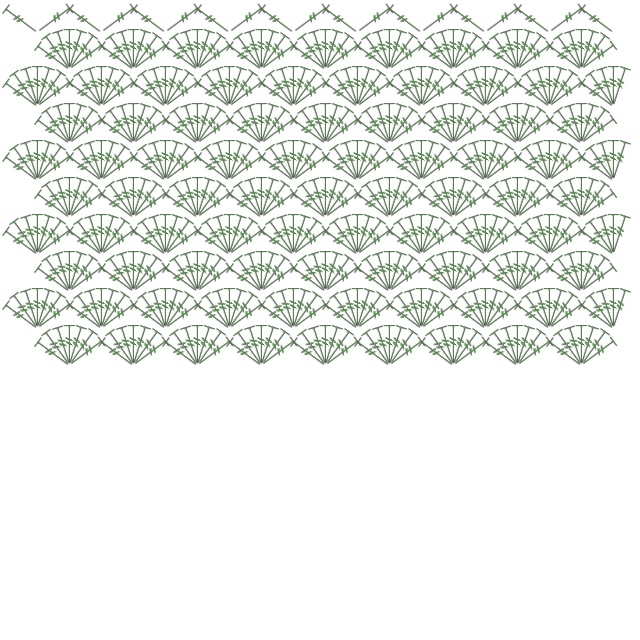fan: (0, 1, 42, 38), (34, 1, 76, 38), (64, 1, 106, 38), (98, 1, 140, 38), (128, 1, 170, 38), (162, 1, 204, 38), (192, 1, 234, 38), (226, 1, 268, 38), (256, 1, 298, 38), (290, 1, 332, 38), (320, 1, 362, 38), (354, 1, 396, 38), (384, 1, 426, 38), (418, 1, 460, 38), (448, 1, 490, 38), (482, 1, 524, 38), (512, 1, 554, 38), (546, 1, 588, 38), (576, 1, 618, 38), (32, 38, 74, 75), (39, 31, 76, 73), (64, 31, 101, 73), (66, 38, 108, 75), (96, 38, 138, 75), (103, 31, 140, 73), (128, 31, 165, 73), (130, 38, 172, 75), (160, 38, 202, 75), (167, 31, 204, 73), (192, 31, 229, 73), (194, 38, 236, 75), (224, 38, 266, 75), (231, 31, 268, 73), (256, 31, 293, 73), (258, 38, 300, 75), (288, 38, 330, 75), (295, 31, 332, 73), (320, 31, 357, 73), (322, 38, 364, 75), (352, 38, 394, 75), (359, 31, 396, 73), (384, 31, 421, 73), (386, 38, 428, 75), (416, 38, 458, 75), (423, 31, 460, 73), (448, 31, 485, 73), (450, 38, 492, 75), (480, 38, 522, 75), (487, 31, 524, 73), (512, 31, 549, 73), (514, 38, 556, 75), (544, 38, 586, 75), (551, 31, 588, 73), (576, 31, 613, 73), (578, 38, 620, 75), (0, 75, 42, 112), (7, 68, 44, 110), (32, 68, 69, 110), (34, 75, 76, 112), (64, 75, 106, 112), (71, 68, 108, 110), (96, 68, 133, 110), (98, 75, 140, 112), (128, 75, 170, 112), (135, 68, 172, 110), (160, 68, 197, 110), (162, 75, 204, 112), (192, 75, 234, 112), (199, 68, 236, 110), (224, 68, 261, 110), (226, 75, 268, 112), (256, 75, 298, 112), (263, 68, 300, 110), (288, 68, 325, 110), (290, 75, 332, 112), (320, 75, 362, 112), (327, 68, 364, 110), (352, 68, 389, 110), (354, 75, 396, 112), (384, 75, 426, 112), (391, 68, 428, 110), (416, 68, 453, 110), (418, 75, 460, 112), (448, 75, 490, 112), (455, 68, 492, 110), (480, 68, 517, 110), (482, 75, 524, 112), (512, 75, 554, 112), (519, 68, 556, 110), (544, 68, 581, 110), (546, 75, 588, 112), (576, 75, 618, 112), (583, 68, 620, 110), (32, 112, 74, 149), (39, 105, 76, 147), (64, 105, 101, 147), (66, 112, 108, 149), (96, 112, 138, 149), (103, 105, 140, 147), (128, 105, 165, 147), (130, 112, 172, 149), (160, 112, 202, 149), (167, 105, 204, 147), (192, 105, 229, 147), (194, 112, 236, 149), (224, 112, 266, 149), (231, 105, 268, 147), (256, 105, 293, 147), (258, 112, 300, 149), (288, 112, 330, 149), (295, 105, 332, 147), (320, 105, 357, 147), (322, 112, 364, 149), (352, 112, 394, 149), (359, 105, 396, 147), (384, 105, 421, 147), (386, 112, 428, 149), (416, 112, 458, 149), (423, 105, 460, 147), (448, 105, 485, 147), (450, 112, 492, 149), (480, 112, 522, 149), (487, 105, 524, 147), (512, 105, 549, 147), (514, 112, 556, 149), (544, 112, 586, 149), (551, 105, 588, 147), (576, 105, 613, 147), (578, 112, 620, 149), (0, 149, 42, 186), (7, 142, 44, 184), (32, 142, 69, 184), (34, 149, 76, 186), (64, 149, 106, 186), (71, 142, 108, 184), (96, 142, 133, 184), (98, 149, 140, 186), (128, 149, 170, 186), (135, 142, 172, 184), (160, 142, 197, 184), (162, 149, 204, 186), (192, 149, 234, 186), (199, 142, 236, 184), (224, 142, 261, 184), (226, 149, 268, 186), (256, 149, 298, 186), (263, 142, 300, 184), (288, 142, 325, 184), (290, 149, 332, 186), (320, 149, 362, 186), (327, 142, 364, 184), (352, 142, 389, 184), (354, 149, 396, 186), (384, 149, 426, 186), (391, 142, 428, 184), (416, 142, 453, 184), (418, 149, 460, 186), (448, 149, 490, 186), (455, 142, 492, 184), (480, 142, 517, 184), (482, 149, 524, 186), (512, 149, 554, 186), (519, 142, 556, 184), (544, 142, 581, 184), (546, 149, 588, 186), (576, 149, 618, 186), (583, 142, 620, 184), (32, 186, 74, 223), (39, 179, 76, 221), (64, 179, 101, 221), (66, 186, 108, 223), (96, 186, 138, 223), (103, 179, 140, 221), (128, 179, 165, 221), (130, 186, 172, 223), (160, 186, 202, 223), (167, 179, 204, 221), (192, 179, 229, 221), (194, 186, 236, 223), (224, 186, 266, 223), (231, 179, 268, 221), (256, 179, 293, 221), (258, 186, 300, 223), (288, 186, 330, 223), (295, 179, 332, 221), (320, 179, 357, 221), (322, 186, 364, 223), (352, 186, 394, 223), (359, 179, 396, 221), (384, 179, 421, 221), (386, 186, 428, 223), (416, 186, 458, 223), (423, 179, 460, 221), (448, 179, 485, 221), (450, 186, 492, 223), (480, 186, 522, 223), (487, 179, 524, 221), (512, 179, 549, 221), (514, 186, 556, 223), (544, 186, 586, 223), (551, 179, 588, 221), (576, 179, 613, 221), (578, 186, 620, 223), (0, 223, 42, 260), (7, 216, 44, 258), (32, 216, 69, 258), (34, 223, 76, 260), (64, 223, 106, 260), (71, 216, 108, 258), (96, 216, 133, 258), (98, 223, 140, 260), (128, 223, 170, 260), (135, 216, 172, 258), (160, 216, 197, 258), (162, 223, 204, 260), (192, 223, 234, 260), (199, 216, 236, 258), (224, 216, 261, 258), (226, 223, 268, 260), (256, 223, 298, 260), (263, 216, 300, 258), (288, 216, 325, 258), (290, 223, 332, 260), (320, 223, 362, 260), (327, 216, 364, 258), (352, 216, 389, 258), (354, 223, 396, 260), (384, 223, 426, 260), (391, 216, 428, 258), (416, 216, 453, 258), (418, 223, 460, 260), (448, 223, 490, 260), (455, 216, 492, 258), (480, 216, 517, 258), (482, 223, 524, 260), (512, 223, 554, 260), (519, 216, 556, 258), (544, 216, 581, 258), (546, 223, 588, 260), (576, 223, 618, 260), (583, 216, 620, 258), (32, 260, 74, 297), (39, 253, 76, 295), (64, 253, 101, 295), (66, 260, 108, 297), (96, 260, 138, 297), (103, 253, 140, 295), (128, 253, 165, 295), (130, 260, 172, 297), (160, 260, 202, 297), (167, 253, 204, 295), (192, 253, 229, 295), (194, 260, 236, 297), (224, 260, 266, 297), (231, 253, 268, 295), (256, 253, 293, 295), (258, 260, 300, 297), (288, 260, 330, 297), (295, 253, 332, 295), (320, 253, 357, 295), (322, 260, 364, 297), (352, 260, 394, 297), (359, 253, 396, 295), (384, 253, 421, 295), (386, 260, 428, 297), (416, 260, 458, 297), (423, 253, 460, 295), (448, 253, 485, 295), (450, 260, 492, 297), (480, 260, 522, 297), (487, 253, 524, 295), (512, 253, 549, 295), (514, 260, 556, 297), (544, 260, 586, 297), (551, 253, 588, 295), (576, 253, 613, 295), (578, 260, 620, 297), (0, 297, 42, 334), (7, 290, 44, 332), (32, 290, 69, 332), (34, 297, 76, 334), (64, 297, 106, 334), (71, 290, 108, 332), (96, 290, 133, 332), (98, 297, 140, 334), (128, 297, 170, 334), (135, 290, 172, 332), (160, 290, 197, 332), (162, 297, 204, 334), (192, 297, 234, 334), (199, 290, 236, 332), (224, 290, 261, 332), (226, 297, 268, 334), (256, 297, 298, 334), (263, 290, 300, 332), (288, 290, 325, 332), (290, 297, 332, 334), (320, 297, 362, 334), (327, 290, 364, 332), (352, 290, 389, 332), (354, 297, 396, 334), (384, 297, 426, 334), (391, 290, 428, 332), (416, 290, 453, 332), (418, 297, 460, 334), (448, 297, 490, 334), (455, 290, 492, 332), (480, 290, 517, 332), (482, 297, 524, 334), (512, 297, 554, 334), (519, 290, 556, 332), (544, 290, 581, 332), (546, 297, 588, 334), (576, 297, 618, 334), (583, 290, 620, 332), (32, 334, 74, 371), (39, 327, 76, 369), (64, 327, 101, 369), (66, 334, 108, 371), (96, 334, 138, 371), (103, 327, 140, 369), (128, 327, 165, 369), (130, 334, 172, 371), (160, 334, 202, 371), (167, 327, 204, 369), (192, 327, 229, 369), (194, 334, 236, 371), (224, 334, 266, 371), (231, 327, 268, 369), (256, 327, 293, 369), (258, 334, 300, 371), (288, 334, 330, 371), (295, 327, 332, 369), (320, 327, 357, 369), (322, 334, 364, 371), (352, 334, 394, 371), (359, 327, 396, 369), (384, 327, 421, 369), (386, 334, 428, 371), (416, 334, 458, 371), (423, 327, 460, 369), (448, 327, 485, 369), (450, 334, 492, 371), (480, 334, 522, 371), (487, 327, 524, 369), (512, 327, 549, 369), (514, 334, 556, 371), (544, 334, 586, 371), (551, 327, 588, 369), (576, 327, 613, 369), (578, 334, 620, 371), (50, 27, 77, 71), (63, 27, 90, 71), (114, 27, 141, 71), (127, 27, 154, 71), (178, 27, 205, 71), (191, 27, 218, 71), (242, 27, 269, 71), (255, 27, 282, 71), (306, 27, 333, 71), (319, 27, 346, 71), (370, 27, 397, 71), (383, 27, 410, 71), (434, 27, 461, 71), (447, 27, 474, 71), (498, 27, 525, 71), (511, 27, 538, 71), (562, 27, 589, 71), (575, 27, 602, 71), (18, 64, 45, 108), (31, 64, 58, 108), (82, 64, 109, 108), (95, 64, 122, 108), (146, 64, 173, 108), (159, 64, 186, 108), (210, 64, 237, 108), (223, 64, 250, 108), (274, 64, 301, 108), (287, 64, 314, 108), (338, 64, 365, 108), (351, 64, 378, 108), (402, 64, 429, 108), (415, 64, 442, 108), (466, 64, 493, 108), (479, 64, 506, 108), (530, 64, 557, 108), (543, 64, 570, 108), (594, 64, 621, 108), (607, 64, 634, 108), (50, 101, 77, 145), (63, 101, 90, 145), (114, 101, 141, 145), (127, 101, 154, 145), (178, 101, 205, 145), (191, 101, 218, 145), (242, 101, 269, 145), (255, 101, 282, 145), (306, 101, 333, 145), (319, 101, 346, 145), (370, 101, 397, 145), (383, 101, 410, 145), (434, 101, 461, 145), (447, 101, 474, 145), (498, 101, 525, 145), (511, 101, 538, 145), (562, 101, 589, 145), (575, 101, 602, 145), (18, 138, 45, 182), (31, 138, 58, 182), (82, 138, 109, 182), (95, 138, 122, 182), (146, 138, 173, 182), (159, 138, 186, 182), (210, 138, 237, 182), (223, 138, 250, 182), (274, 138, 301, 182), (287, 138, 314, 182), (338, 138, 365, 182), (351, 138, 378, 182), (402, 138, 429, 182), (415, 138, 442, 182), (466, 138, 493, 182), (479, 138, 506, 182), (530, 138, 557, 182), (543, 138, 570, 182), (594, 138, 621, 182), (607, 138, 634, 182), (50, 175, 77, 219), (63, 175, 90, 219), (114, 175, 141, 219), (127, 175, 154, 219), (178, 175, 205, 219), (191, 175, 218, 219), (242, 175, 269, 219), (255, 175, 282, 219), (306, 175, 333, 219), (319, 175, 346, 219), (370, 175, 397, 219), (383, 175, 410, 219), (434, 175, 461, 219), (447, 175, 474, 219), (498, 175, 525, 219), (511, 175, 538, 219), (562, 175, 589, 219), (575, 175, 602, 219), (18, 212, 45, 256), (31, 212, 58, 256), (82, 212, 109, 256), (95, 212, 122, 256), (146, 212, 173, 256), (159, 212, 186, 256), (210, 212, 237, 256), (223, 212, 250, 256), (274, 212, 301, 256), (287, 212, 314, 256), (338, 212, 365, 256), (351, 212, 378, 256), (402, 212, 429, 256), (415, 212, 442, 256), (466, 212, 493, 256), (479, 212, 506, 256), (530, 212, 557, 256), (543, 212, 570, 256), (594, 212, 621, 256), (607, 212, 634, 256), (50, 249, 77, 293), (63, 249, 90, 293), (114, 249, 141, 293), (127, 249, 154, 293), (178, 249, 205, 293), (191, 249, 218, 293), (242, 249, 269, 293), (255, 249, 282, 293), (306, 249, 333, 293), (319, 249, 346, 293), (370, 249, 397, 293), (383, 249, 410, 293), (434, 249, 461, 293), (447, 249, 474, 293), (498, 249, 525, 293), (511, 249, 538, 293), (562, 249, 589, 293), (575, 249, 602, 293), (18, 286, 45, 330), (31, 286, 58, 330), (82, 286, 109, 330), (95, 286, 122, 330), (146, 286, 173, 330), (159, 286, 186, 330), (210, 286, 237, 330), (223, 286, 250, 330), (274, 286, 301, 330), (287, 286, 314, 330), (338, 286, 365, 330), (351, 286, 378, 330), (402, 286, 429, 330), (415, 286, 442, 330), (466, 286, 493, 330), (479, 286, 506, 330), (530, 286, 557, 330), (543, 286, 570, 330), (594, 286, 621, 330), (607, 286, 634, 330), (50, 323, 77, 367), (63, 323, 90, 367), (114, 323, 141, 367), (127, 323, 154, 367), (178, 323, 205, 367), (191, 323, 218, 367), (242, 323, 269, 367), (255, 323, 282, 367), (306, 323, 333, 367), (319, 323, 346, 367), (370, 323, 397, 367), (383, 323, 410, 367), (434, 323, 461, 367), (447, 323, 474, 367), (498, 323, 525, 367), (511, 323, 538, 367), (562, 323, 589, 367), (575, 323, 602, 367), (62, 27, 78, 69), (126, 27, 142, 69), (190, 27, 206, 69), (254, 27, 270, 69), (318, 27, 334, 69), (382, 27, 398, 69), (446, 27, 462, 69), (510, 27, 526, 69), (574, 27, 590, 69), (30, 64, 46, 106), (94, 64, 110, 106), (158, 64, 174, 106), (222, 64, 238, 106), (286, 64, 302, 106), (350, 64, 366, 106), (414, 64, 430, 106), (478, 64, 494, 106), (542, 64, 558, 106), (606, 64, 622, 106), (62, 101, 78, 143), (126, 101, 142, 143), (190, 101, 206, 143), (254, 101, 270, 143), (318, 101, 334, 143), (382, 101, 398, 143), (446, 101, 462, 143), (510, 101, 526, 143), (574, 101, 590, 143), (30, 138, 46, 180), (94, 138, 110, 180), (158, 138, 174, 180), (222, 138, 238, 180), (286, 138, 302, 180), (350, 138, 366, 180), (414, 138, 430, 180), (478, 138, 494, 180), (542, 138, 558, 180), (606, 138, 622, 180), (62, 175, 78, 217), (126, 175, 142, 217), (190, 175, 206, 217), (254, 175, 270, 217), (318, 175, 334, 217), (382, 175, 398, 217), (446, 175, 462, 217), (510, 175, 526, 217), (574, 175, 590, 217), (30, 212, 46, 254), (94, 212, 110, 254), (158, 212, 174, 254), (222, 212, 238, 254), (286, 212, 302, 254), (350, 212, 366, 254), (414, 212, 430, 254), (478, 212, 494, 254), (542, 212, 558, 254), (606, 212, 622, 254), (62, 249, 78, 291), (126, 249, 142, 291), (190, 249, 206, 291), (254, 249, 270, 291), (318, 249, 334, 291), (382, 249, 398, 291), (446, 249, 462, 291), (510, 249, 526, 291), (574, 249, 590, 291), (30, 286, 46, 328), (94, 286, 110, 328), (158, 286, 174, 328), (222, 286, 238, 328), (286, 286, 302, 328), (350, 286, 366, 328), (414, 286, 430, 328), (478, 286, 494, 328), (542, 286, 558, 328), (606, 286, 622, 328), (62, 323, 78, 365), (126, 323, 142, 365), (190, 323, 206, 365), (254, 323, 270, 365), (318, 323, 334, 365), (382, 323, 398, 365), (446, 323, 462, 365), (510, 323, 526, 365), (574, 323, 590, 365)
